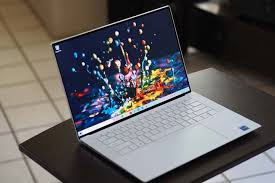laptop: (47, 5, 248, 179)
